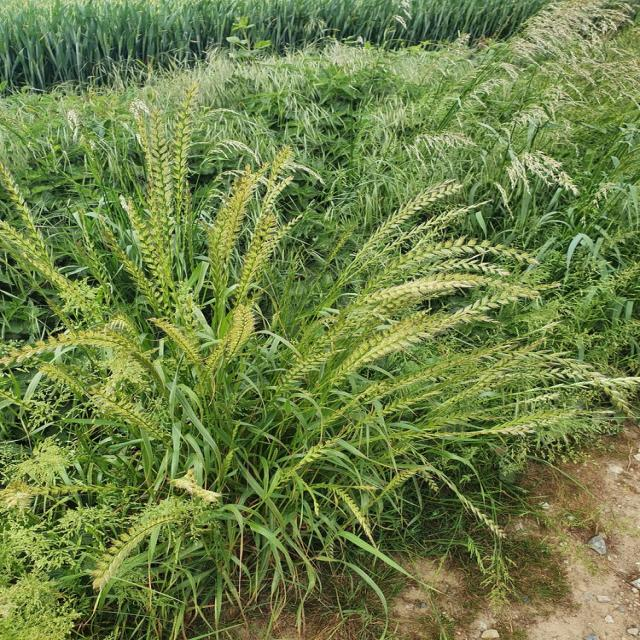Lolium: (11, 229, 188, 397), (326, 365, 625, 462), (309, 182, 465, 326), (356, 250, 534, 364), (130, 107, 194, 309), (79, 501, 218, 582), (218, 163, 277, 304)
